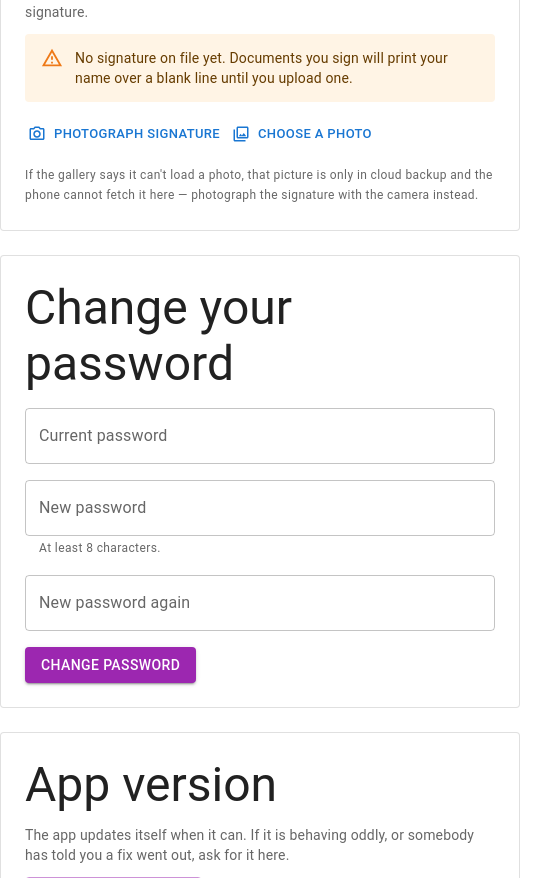
ProfilePage › changes the password once the two new entries agree
(page scrolled)
Type "OldPass@123" into the password field labelled "Current password". click: (260, 436)
box: [25,408,495,464]
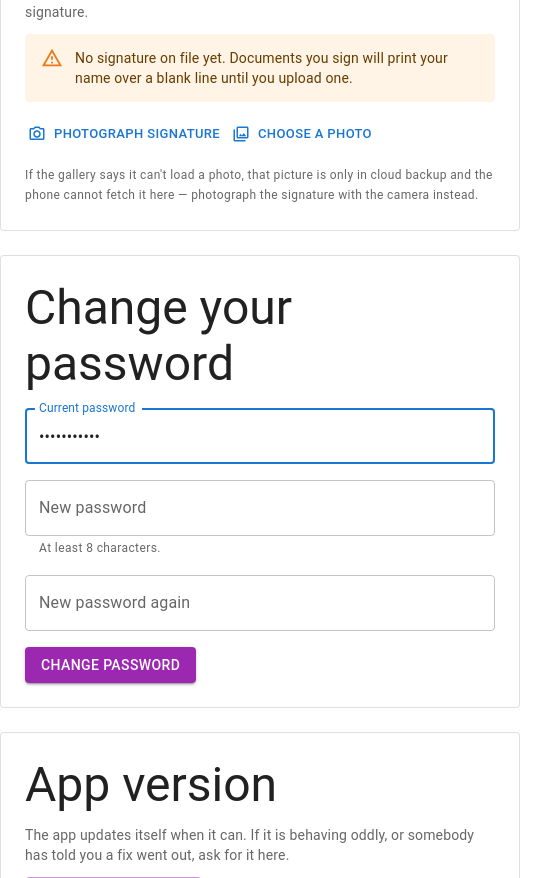
Type "BrandNew@456" into the password field labelled "New password". click: (260, 508)
box: [25,480,495,536]
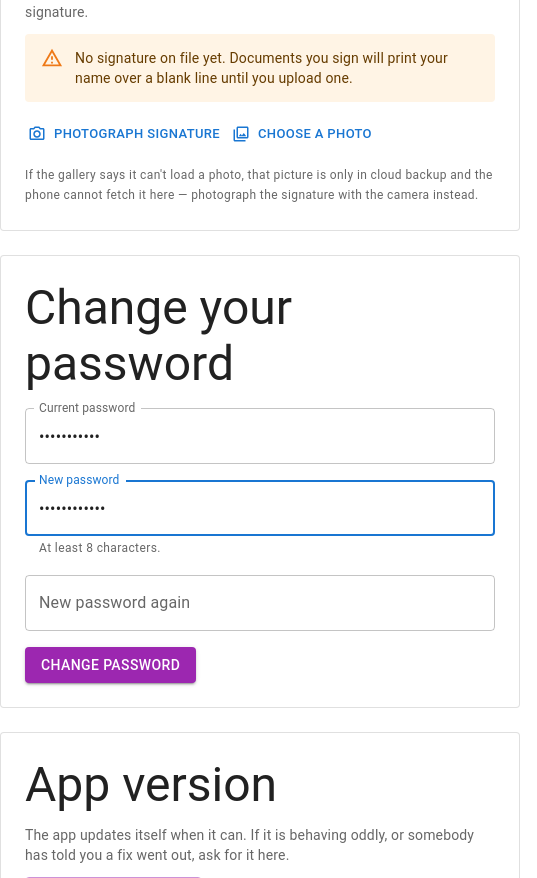
Type "BrandNew@456" into the password field labelled "New password again". click: (260, 603)
box: [25,575,495,631]
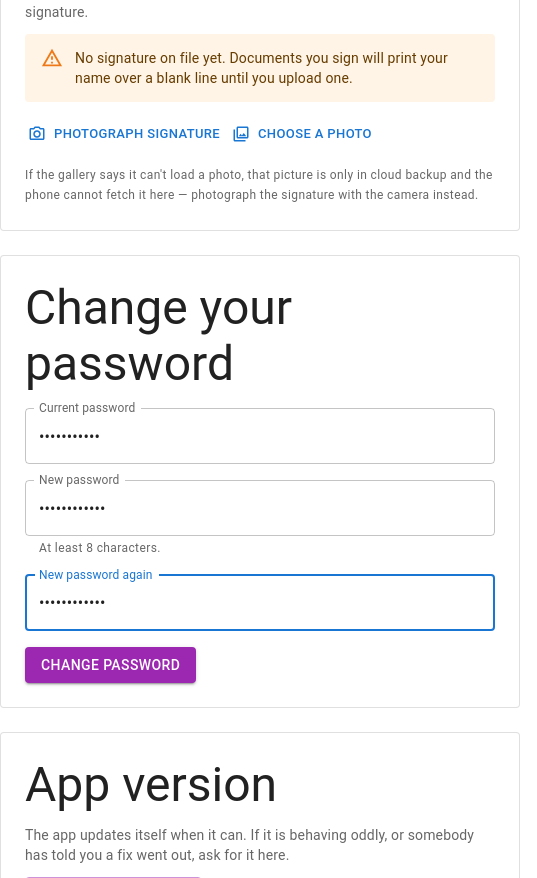
Click the button "Change password". click: (111, 665)
box: [25,647,196,683]
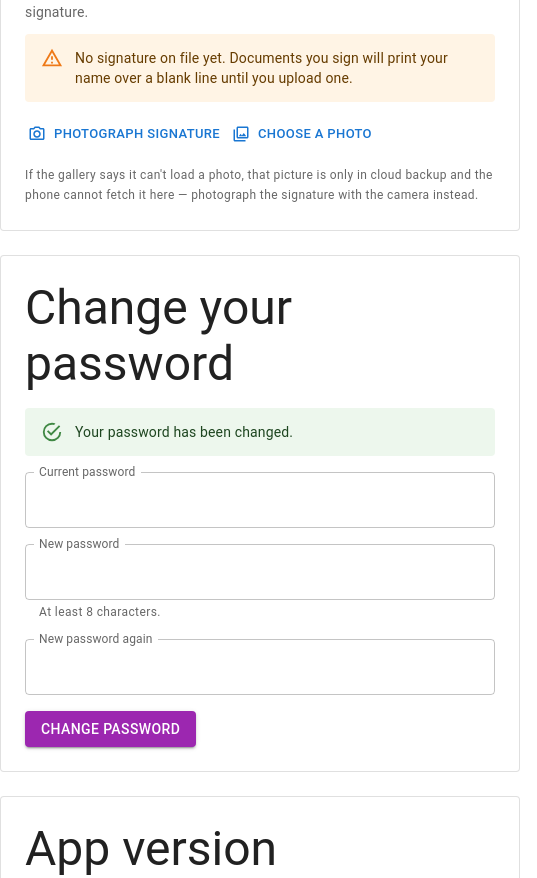
Check: the text "Your password has been changed." is shown, box [75,424,293,440]
